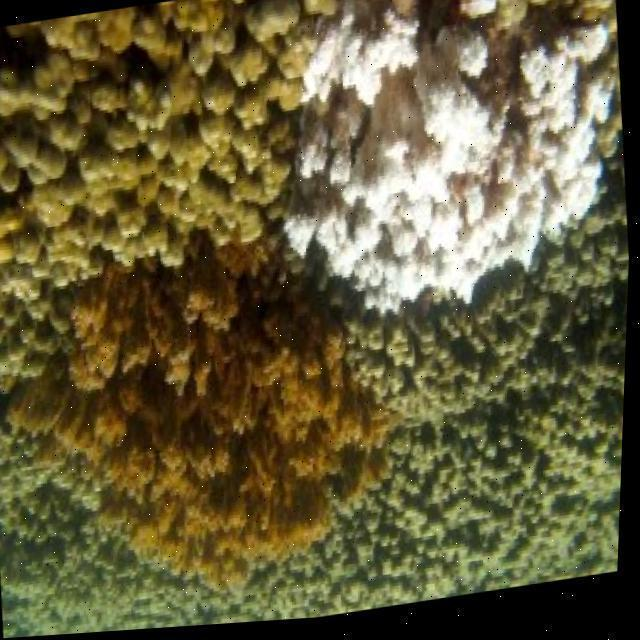Bleached Coral: (312, 0, 639, 281)
Healthy Coral: (33, 303, 368, 562)
